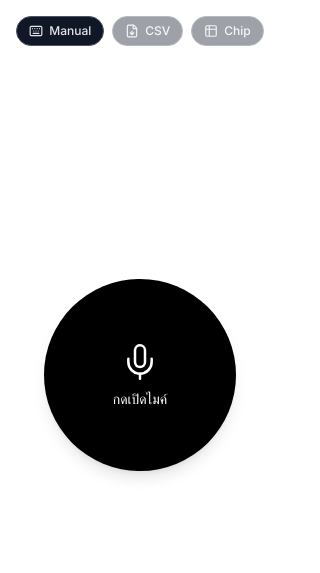
Test case: CaptureScreen toggle mic › closes mic on second button click
Click the button "กดเปิดไมค์".
click(140, 375)  # box [44, 279, 236, 471]
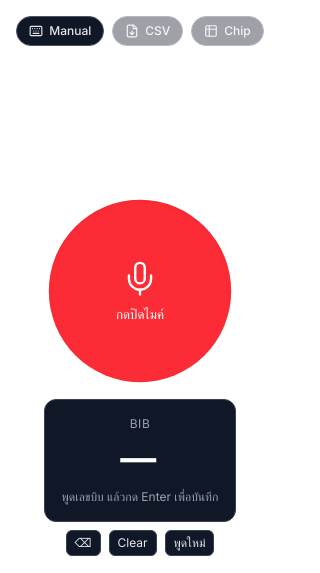
Click the button "กดปิดไมค์".
click(140, 290)  # box [49, 199, 231, 382]
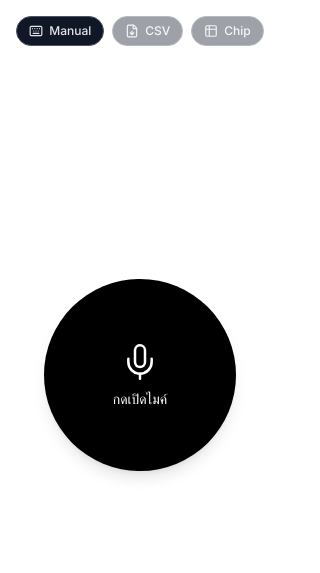
Now the text "กดเปิดไมค์" is shown, box [109, 390, 171, 408]
